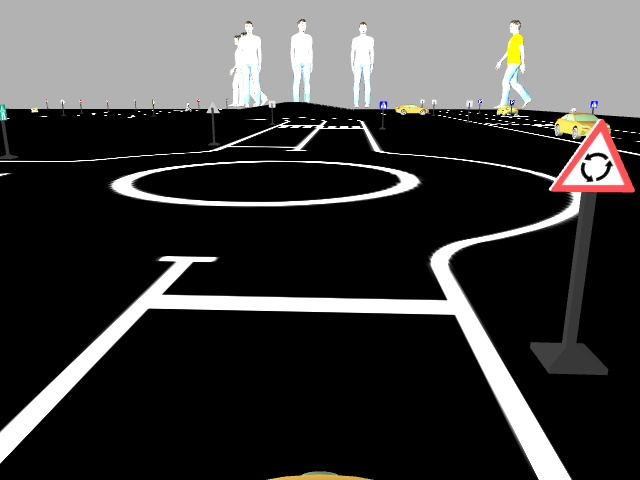Roundabout: (548, 119, 632, 194)
